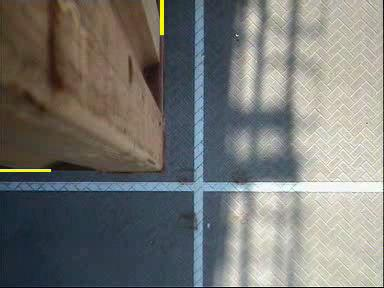groundmarker_2: (176, 178, 254, 229)
